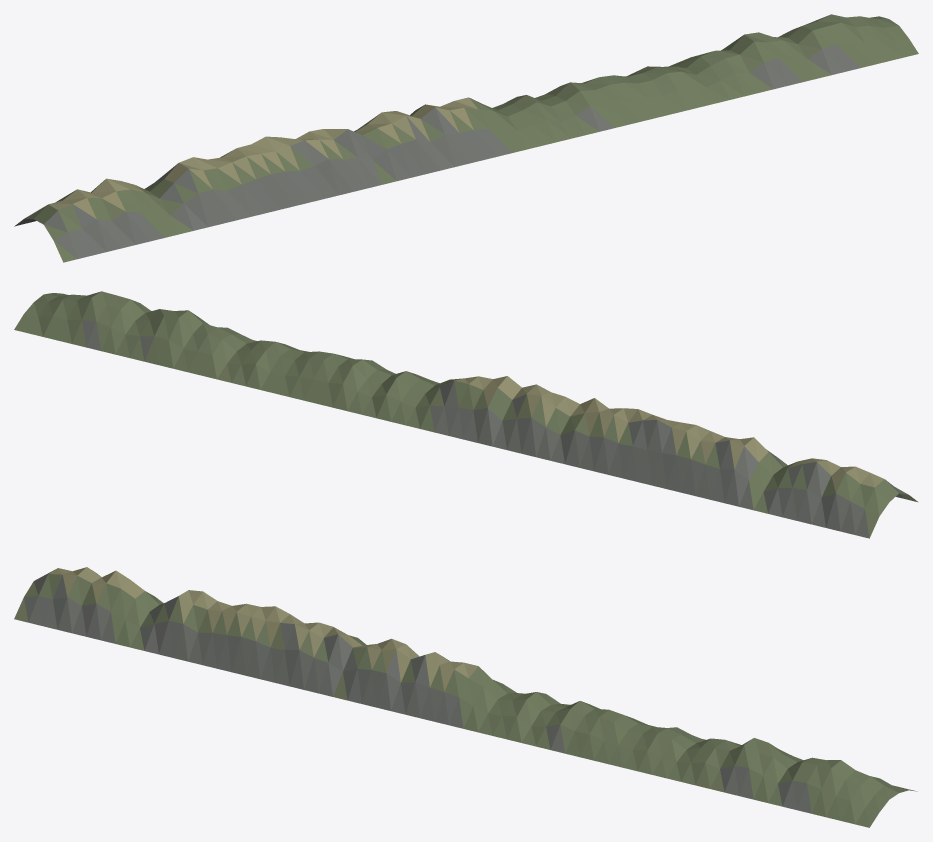
File: backdrop-hills.glb
3 views of the same model, one above another, from view 1: azimuth 30°, elevation 25°; view 2: azimuth 150°, elevation 25°; view 3: azimuth 330°, elevation 25° (orthographic).
Parts seen in each view (by area): view 1: hills; view 2: hills; view 3: hills.
Boxes of the visible parts, x1,y1,x2,y2 form: hills: [14, 14, 918, 262]; hills: [14, 291, 918, 538]; hills: [14, 567, 917, 827].
Bounding box in the file's own units: 9000 × 480 × 900.
1 material, 1 textured.
